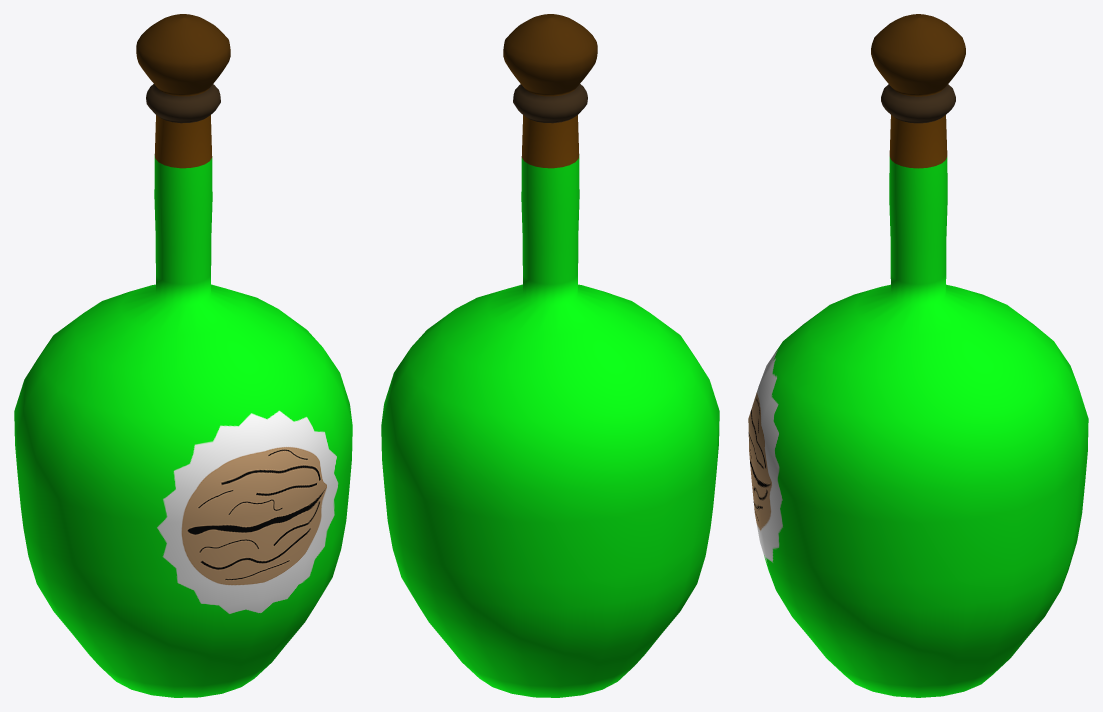
File: Bottle2.fbx
3 renders of one model, left to right at view 1: azimuth 30°, elevation 25°; view 2: azimuth 150°, elevation 25°; view 3: azimuth 270°, elevation 25°, orthographic.
Parts seen in each view (by area): view 1: Bottle2; view 2: Bottle2; view 3: Bottle2.
Part boxes in pixels (bbox=[...]): Bottle2: bbox=[14, 14, 352, 697]; Bottle2: bbox=[381, 14, 719, 697]; Bottle2: bbox=[748, 14, 1088, 697].
Size of the model in its own units: 0.0135 by 0.0284 by 0.0135.
1 material, 1 textured.
